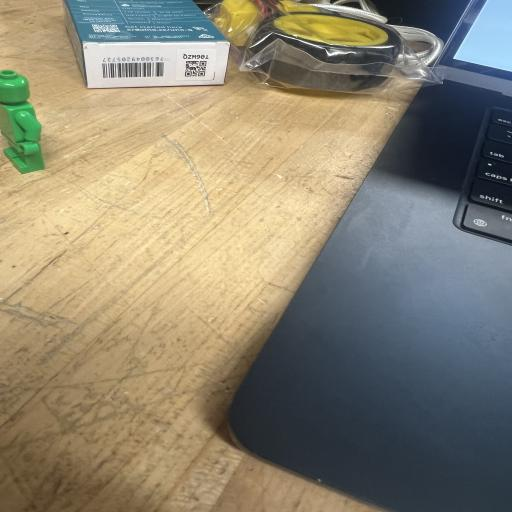green-lego-minifigure-detector: (0, 70, 45, 173)
